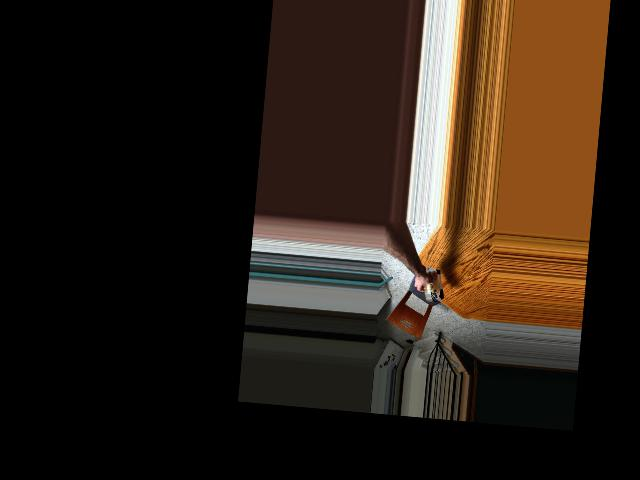cheese: (421, 266, 446, 301)
